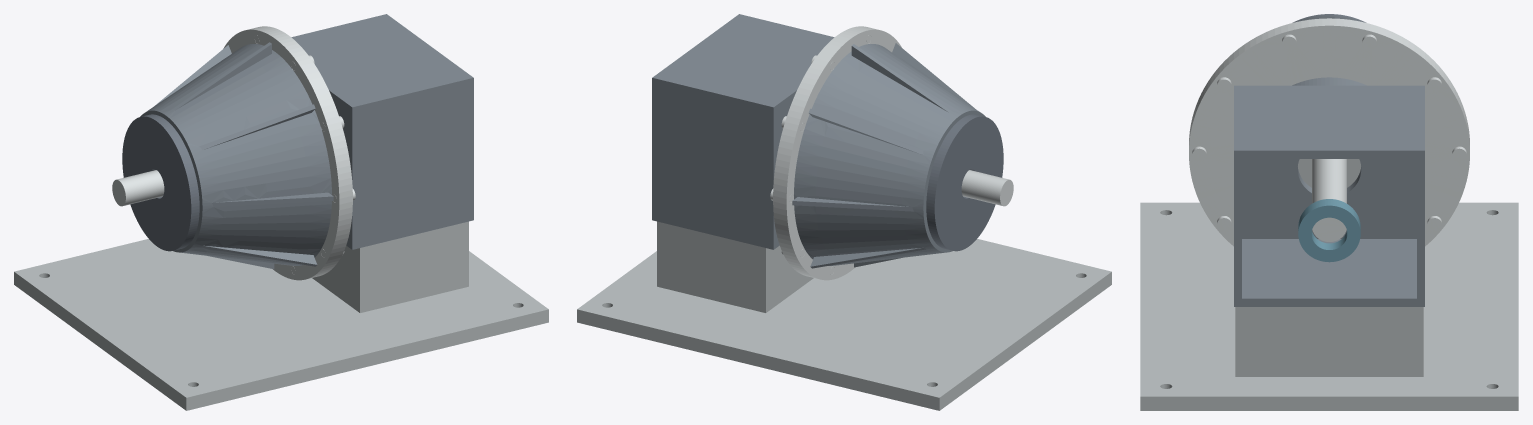
The model's file is assembly.glb.
The picture shows the model from 3 angles, left to right: view 1: azimuth 30°, elevation 25°; view 2: azimuth 150°, elevation 25°; view 3: azimuth 270°, elevation 25°; orthographic projection. The views are drawn at different scales.
Parts seen in each view (by area): view 1: CH-001:1, CH-002:1, CH-004:1, CH-011:1, CH-010:1, CH-003:1, CH-005:1; view 2: CH-001:1, CH-002:1, CH-004:1, CH-011:1, CH-010:1, CH-003:1, CH-005:1; view 3: CH-001:1, CH-004:1, CH-003:1, CH-011:1, CH-009:1, CH-008:1, CH-007:1, CH-012:1.
Part boxes in pixels (bbox=[...]): CH-001:1: bbox=[14, 239, 548, 410]; CH-002:1: bbox=[140, 42, 333, 269]; CH-004:1: bbox=[291, 14, 473, 249]; CH-011:1: bbox=[312, 221, 468, 312]; CH-010:1: bbox=[122, 114, 199, 251]; CH-003:1: bbox=[223, 26, 352, 280]; CH-005:1: bbox=[112, 170, 164, 206]; CH-001:1: bbox=[577, 239, 1111, 410]; CH-002:1: bbox=[792, 43, 985, 268]; CH-004:1: bbox=[652, 14, 834, 249]; CH-011:1: bbox=[657, 221, 813, 312]; CH-010:1: bbox=[926, 114, 1003, 251]; CH-003:1: bbox=[773, 26, 901, 280]; CH-005:1: bbox=[961, 170, 1013, 206]; CH-001:1: bbox=[1140, 202, 1518, 410]; CH-004:1: bbox=[1234, 85, 1424, 306]; CH-003:1: bbox=[1189, 18, 1469, 246]; CH-011:1: bbox=[1235, 307, 1423, 376]; CH-009:1: bbox=[1298, 199, 1360, 262]; CH-008:1: bbox=[1312, 159, 1346, 241]; CH-007:1: bbox=[1298, 159, 1360, 187]; CH-012:1: bbox=[1292, 77, 1366, 85].
Size of the model in its own units: 0.346 by 0.243 by 0.285.
